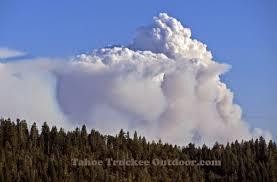yanwu: (4, 10, 264, 143)
